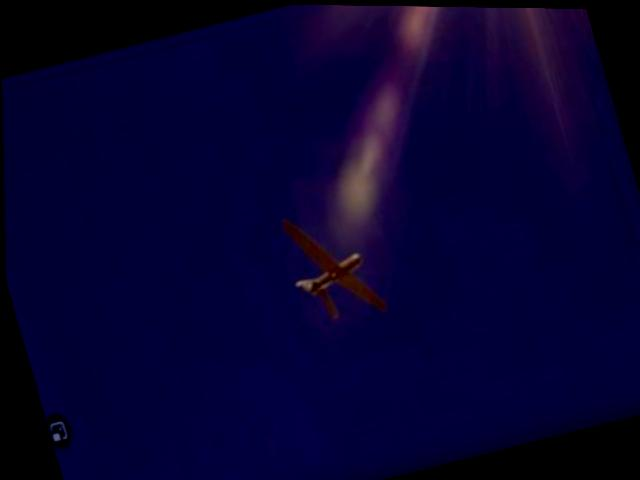uav: (276, 196, 392, 332)
